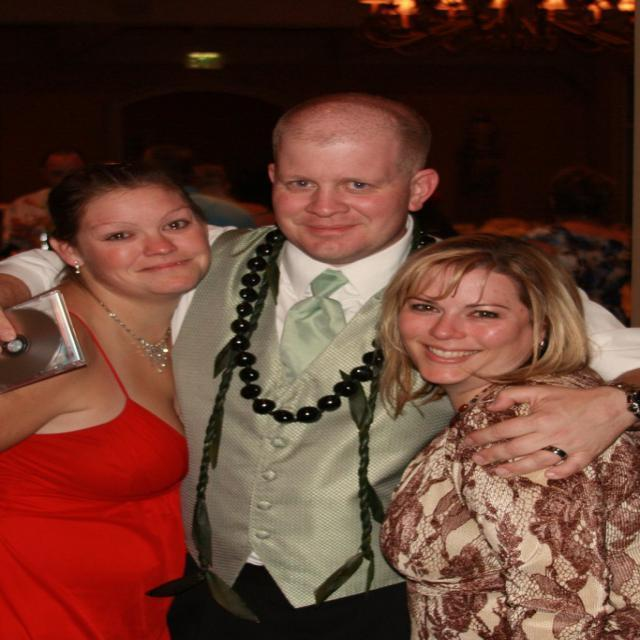closed-mouth: (131, 258, 197, 274), (304, 223, 361, 235)
